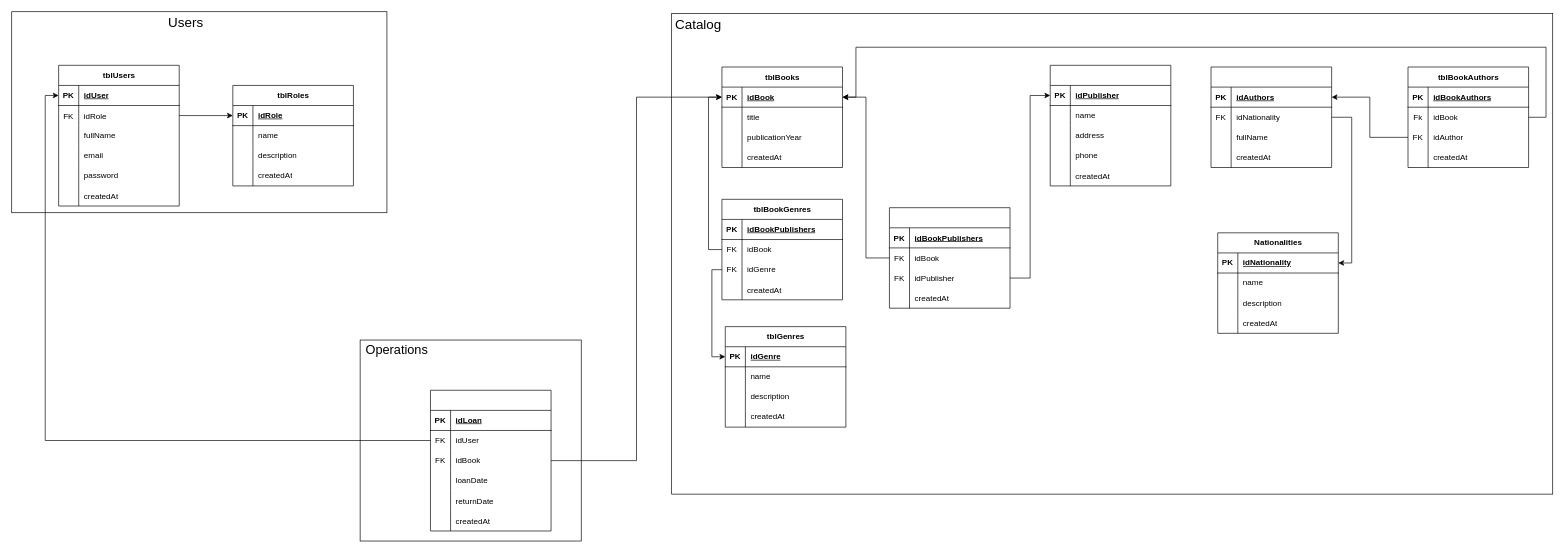
Image size: 1564x553. Some labels were removed from this diagram. The box of each missing label's shape, as (x1, y1, x2, y2) in pixels:
tblAuthors: (1210, 66, 1332, 168)
tblBookPublishers: (889, 207, 1010, 308)
tblLoans: (430, 390, 551, 531)
tblPublishers: (1050, 65, 1171, 186)
